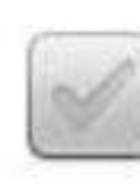CheckBox: (1, 1, 139, 183)
